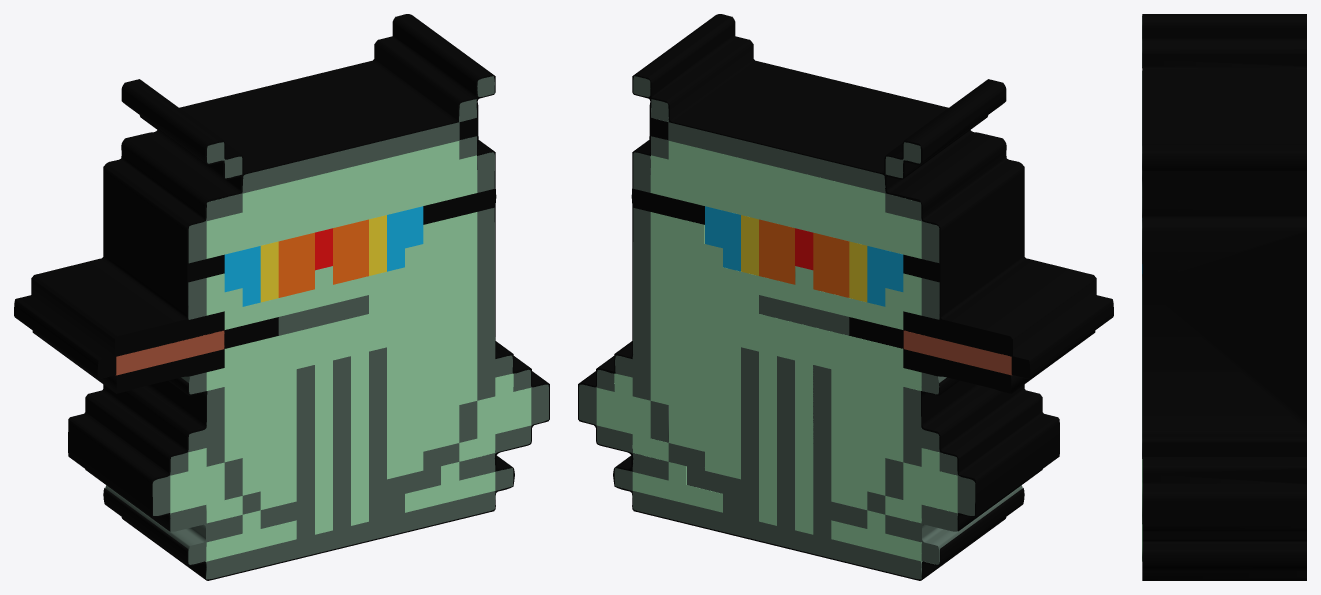
File: Toadz_3565.glb
The picture shows the model from 3 angles, left to right: view 1: azimuth 30°, elevation 25°; view 2: azimuth 150°, elevation 25°; view 3: azimuth 270°, elevation 25°; orthographic projection.
Parts seen in each view (by area): view 1: Curve; view 2: Curve; view 3: Curve.
Part boxes in pixels (box(x1,y1,x2,y2)): Curve: box(14, 14, 549, 580); Curve: box(578, 14, 1113, 580); Curve: box(1142, 14, 1306, 580).
Size of the model in its own units: 3.12 by 2.88 by 1.
